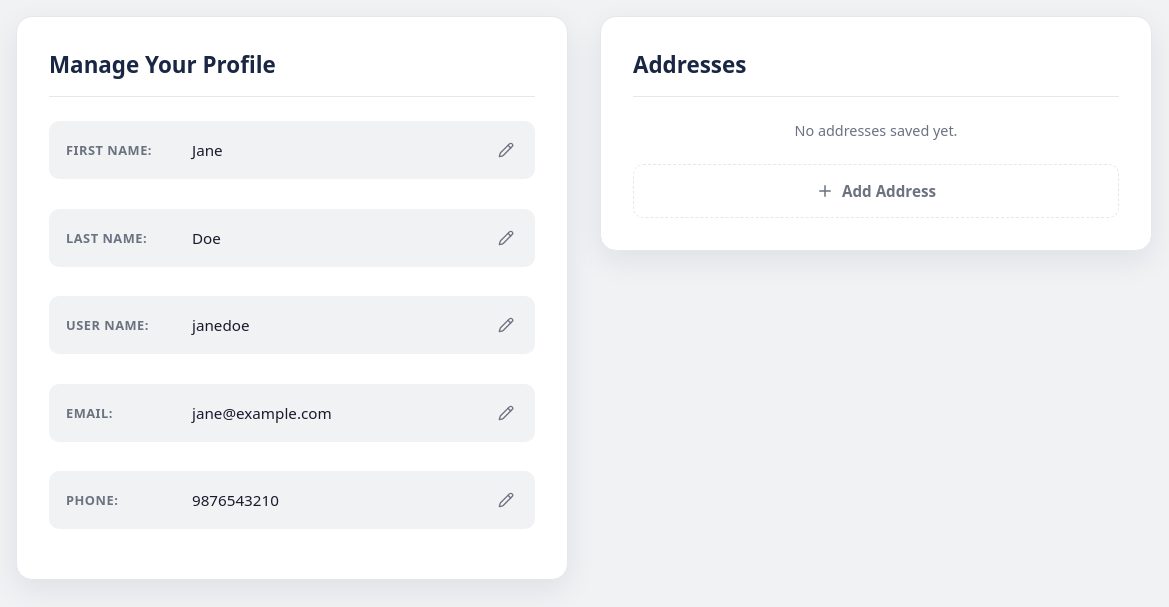
Scenario: ProfilePage — inline editing › input is pre-populated with current value
This screenshot has width=1169, height=607.
Step 1. Click the button named "Edit First Name" → coordinates (506, 150), box [494,138,518,162]
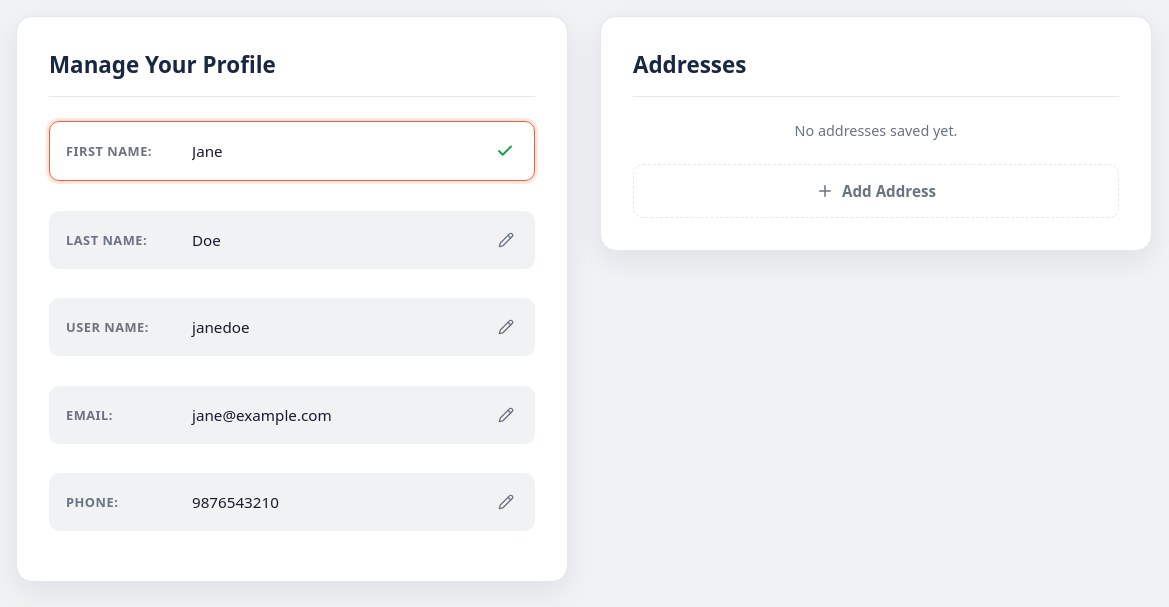
Expected: the field named "First Name" holds "Jane", [192,141,476,161]
